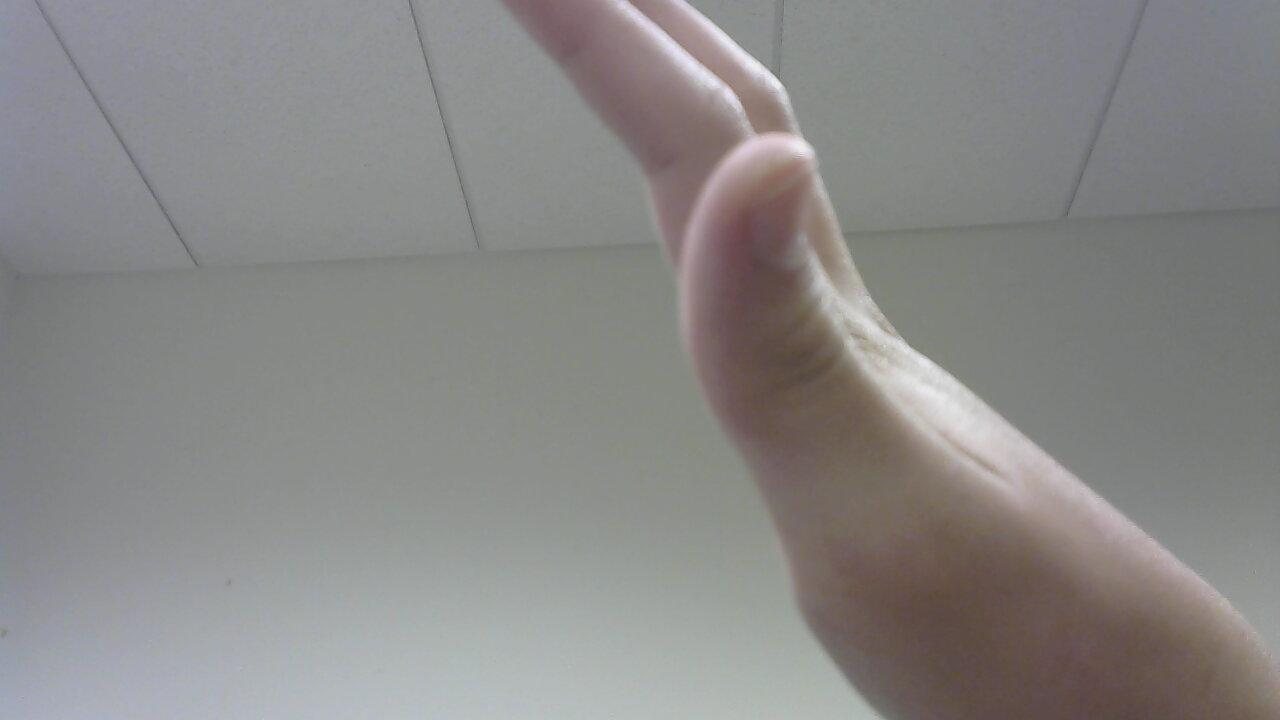hands: (485, 0, 1280, 720)
